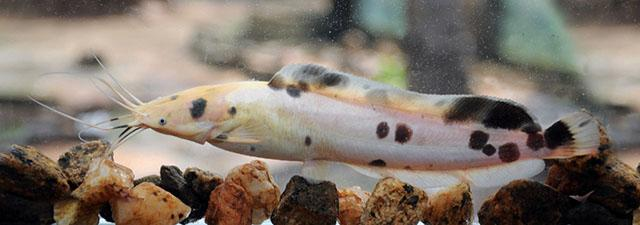Sirip Dada: (194, 112, 280, 156)
Sirip Ekor: (536, 102, 608, 172)
Sirip Perut: (288, 142, 342, 195)
Sirip Punggung: (240, 68, 526, 150)
